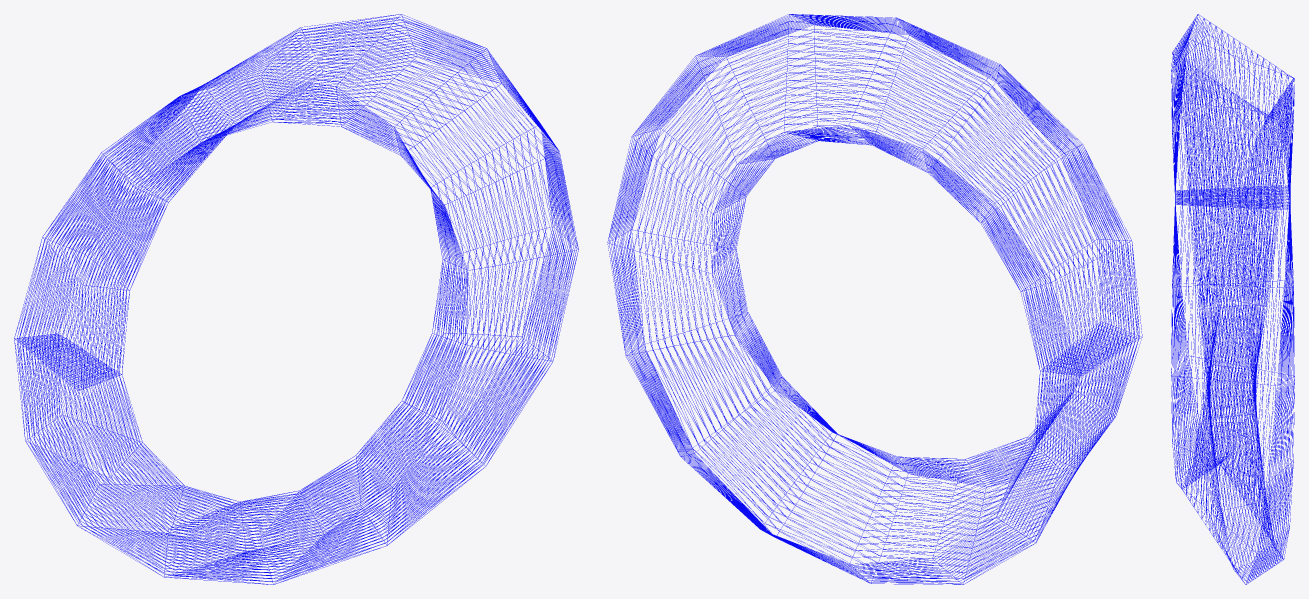
Rendered from MobiusVolumed.glb.
The picture shows the model from 3 angles, left to right: view 1: azimuth 30°, elevation 25°; view 2: azimuth 150°, elevation 25°; view 3: azimuth 270°, elevation 25°; orthographic projection. The views are drawn at different scales.
Bounding box in the file's own units: 2.35 × 2.5 × 0.5391.
